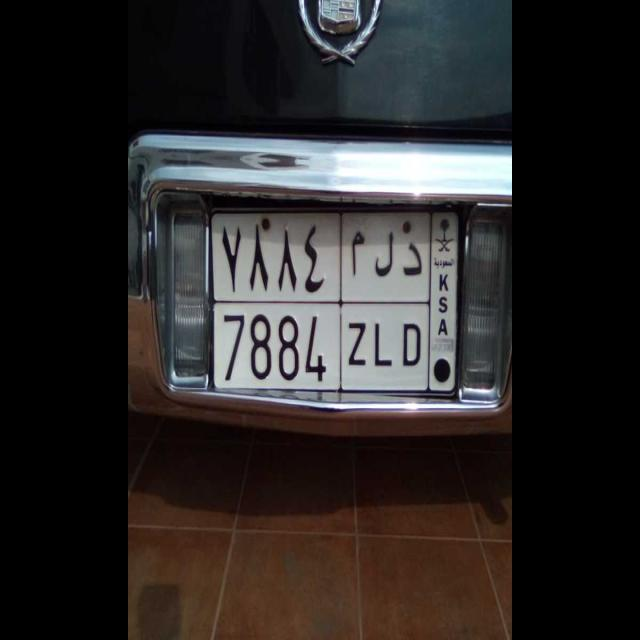license_plate: (210, 298, 431, 395)
